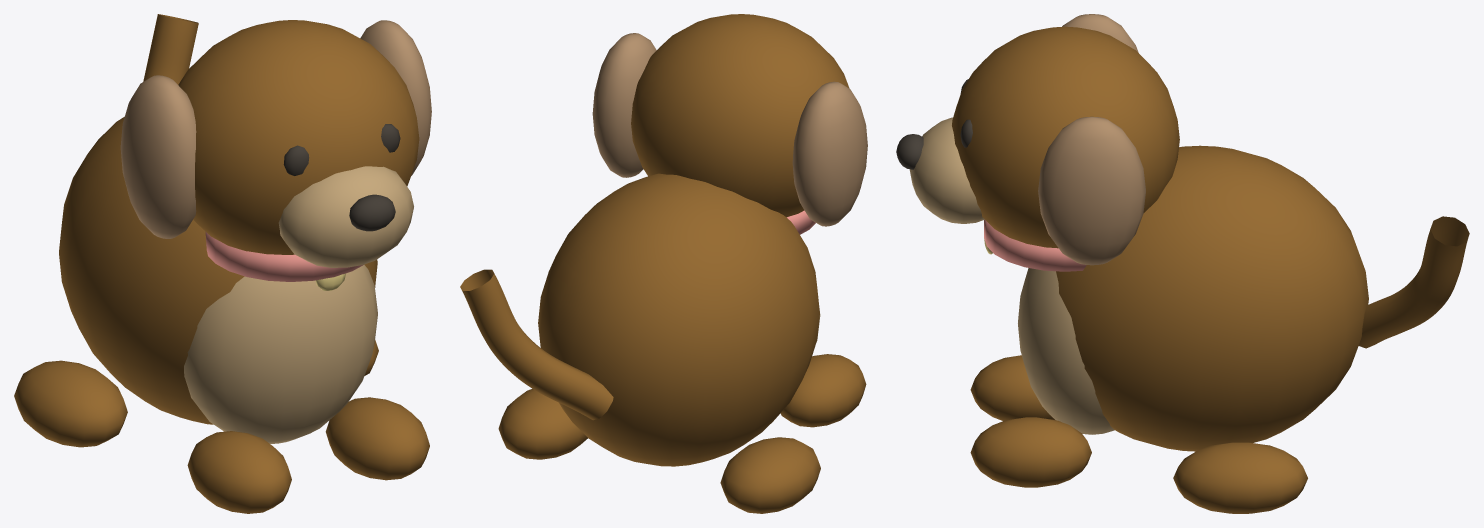
File: dog.glb
The picture shows the model from 3 angles, left to right: view 1: azimuth 30°, elevation 25°; view 2: azimuth 150°, elevation 25°; view 3: azimuth 270°, elevation 25°; orthographic projection. The views are drawn at different scales.
Visible parts, largest first — view 1: Dog | head, Dog | body, Dog | chest, Dog | ear, Dog | muzzle, Dog | back paw, Dog | front paw, Dog | front paw.001, Dog | ear.001, Dog | collar, Dog | tail, Dog | nose (+1 smaller); view 2: Dog | body, Dog | head, Dog | ear, Dog | tail, Dog | back paw, Dog | ear.001, Dog | front paw, Dog | back paw.001; view 3: Dog | body, Dog | head, Dog | ear.001, Dog | chest, Dog | back paw.001, Dog | front paw.001, Dog | tail, Dog | muzzle, Dog | front paw, Dog | collar, Dog | ear, Dog | nose.
Boxes of the visible parts, bbox=[...] form: Dog | head: bbox=[178, 20, 419, 254]; Dog | body: bbox=[59, 117, 377, 424]; Dog | chest: bbox=[184, 265, 377, 443]; Dog | ear: bbox=[120, 75, 196, 238]; Dog | muzzle: bbox=[278, 166, 413, 267]; Dog | back paw: bbox=[14, 360, 127, 447]; Dog | front paw: bbox=[187, 431, 291, 513]; Dog | front paw.001: bbox=[325, 397, 429, 480]; Dog | ear.001: bbox=[360, 20, 431, 175]; Dog | collar: bbox=[205, 231, 363, 281]; Dog | tail: bbox=[143, 14, 198, 84]; Dog | nose: bbox=[349, 194, 395, 231]; Dog | body: bbox=[538, 173, 819, 466]; Dog | head: bbox=[631, 14, 849, 217]; Dog | ear: bbox=[792, 81, 867, 226]; Dog | tail: bbox=[460, 269, 613, 420]; Dog | back paw: bbox=[720, 437, 820, 513]; Dog | ear.001: bbox=[592, 33, 656, 177]; Dog | front paw: bbox=[780, 354, 866, 427]; Dog | back paw.001: bbox=[498, 388, 587, 459]; Dog | body: bbox=[1056, 145, 1368, 451]; Dog | head: bbox=[952, 26, 1179, 248]; Dog | ear.001: bbox=[1038, 116, 1145, 265]; Dog | chest: bbox=[1018, 268, 1114, 434]; Dog | back paw.001: bbox=[1173, 442, 1307, 513]; Dog | front paw.001: bbox=[970, 417, 1091, 487]; Dog | tail: bbox=[1358, 216, 1469, 348]; Dog | muzzle: bbox=[909, 117, 984, 223]; Dog | front paw: bbox=[970, 355, 1055, 420]; Dog | collar: bbox=[984, 220, 1086, 271]; Dog | ear: bbox=[1062, 14, 1138, 52]; Dog | nose: bbox=[896, 134, 923, 169].
Size of the model in its own units: 1.07 by 1.35 by 1.7.
